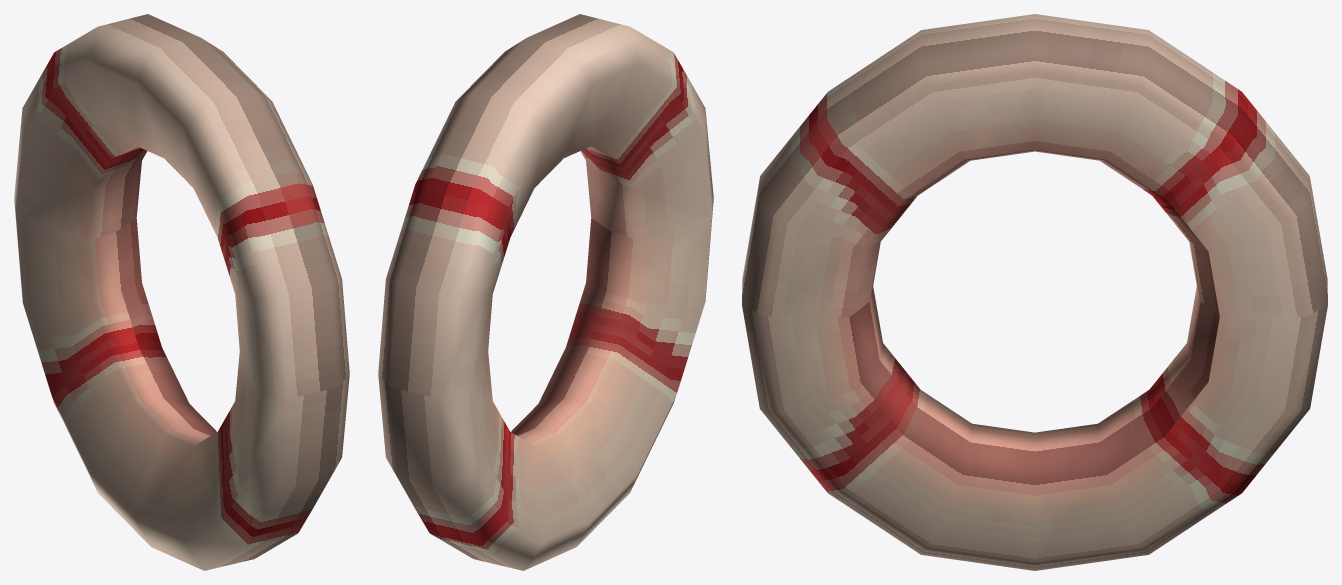
File: Float01_V.fbx
3 renders of one model, left to right at view 1: azimuth 30°, elevation 25°; view 2: azimuth 150°, elevation 25°; view 3: azimuth 270°, elevation 25°, orthographic. The views are drawn at different scales.
Parts seen in each view (by area): view 1: Float01_V; view 2: Float01_V; view 3: Float01_V.
Part boxes in pixels (bbox=[...]): Float01_V: bbox=[14, 14, 349, 570]; Float01_V: bbox=[378, 14, 713, 570]; Float01_V: bbox=[742, 14, 1327, 570].
Bounding box in the file's own units: 0.1616 × 0.8794 × 0.8794.
